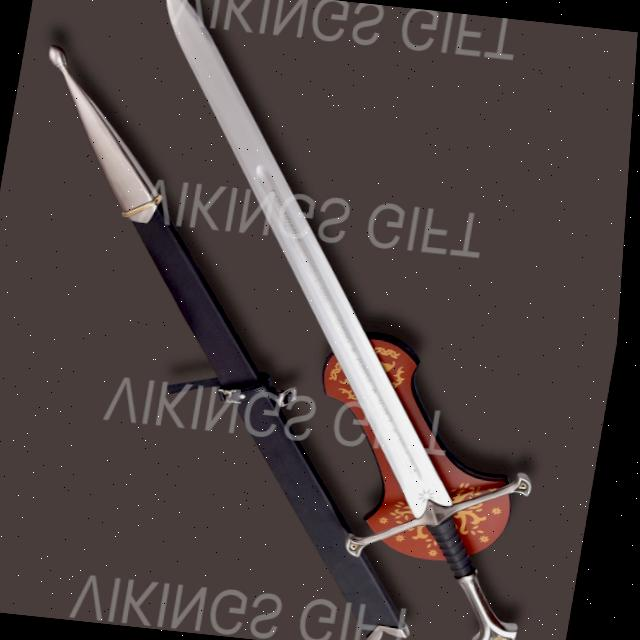knife: (39, 0, 616, 640)
